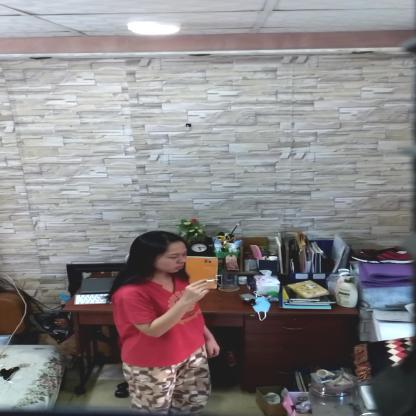cigarette: (204, 278, 219, 283)
person: (107, 231, 222, 416)
